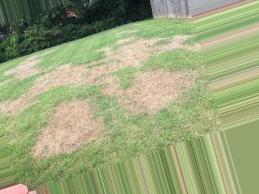patch: (50, 104, 85, 146), (137, 72, 175, 109), (55, 70, 88, 83), (116, 46, 144, 61)
